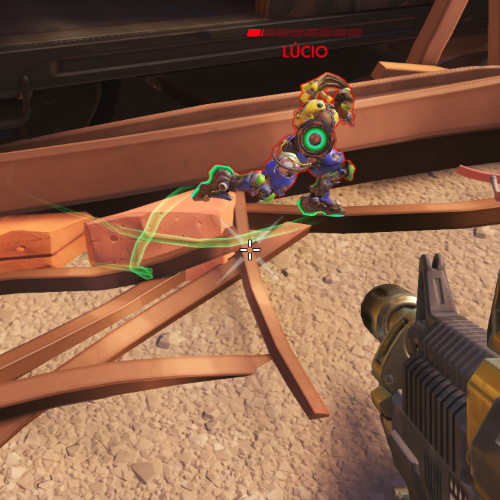hpbar: (246, 28, 362, 37)
